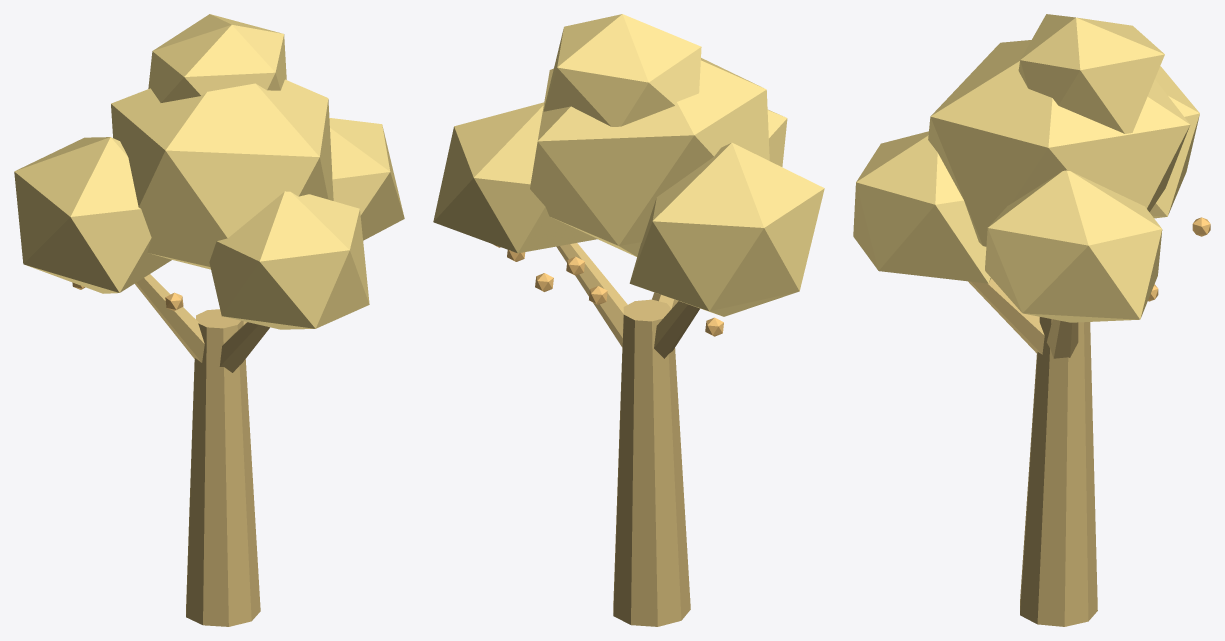
File: Tree_Goldbark.fbx
3 renders of one model, left to right at view 1: azimuth 30°, elevation 25°; view 2: azimuth 150°, elevation 25°; view 3: azimuth 270°, elevation 25°, orthographic. The views are drawn at different scales.
Parts seen in each view (by area): view 1: Tree_Goldbark_Mesh; view 2: Tree_Goldbark_Mesh; view 3: Tree_Goldbark_Mesh.
Part boxes in pixels (box(x1,y1,x2,y2)): Tree_Goldbark_Mesh: box(14, 14, 404, 626); Tree_Goldbark_Mesh: box(433, 14, 824, 626); Tree_Goldbark_Mesh: box(853, 14, 1210, 626).
Bounding box in the file's own units: 6.23 × 9.92 × 5.33.
